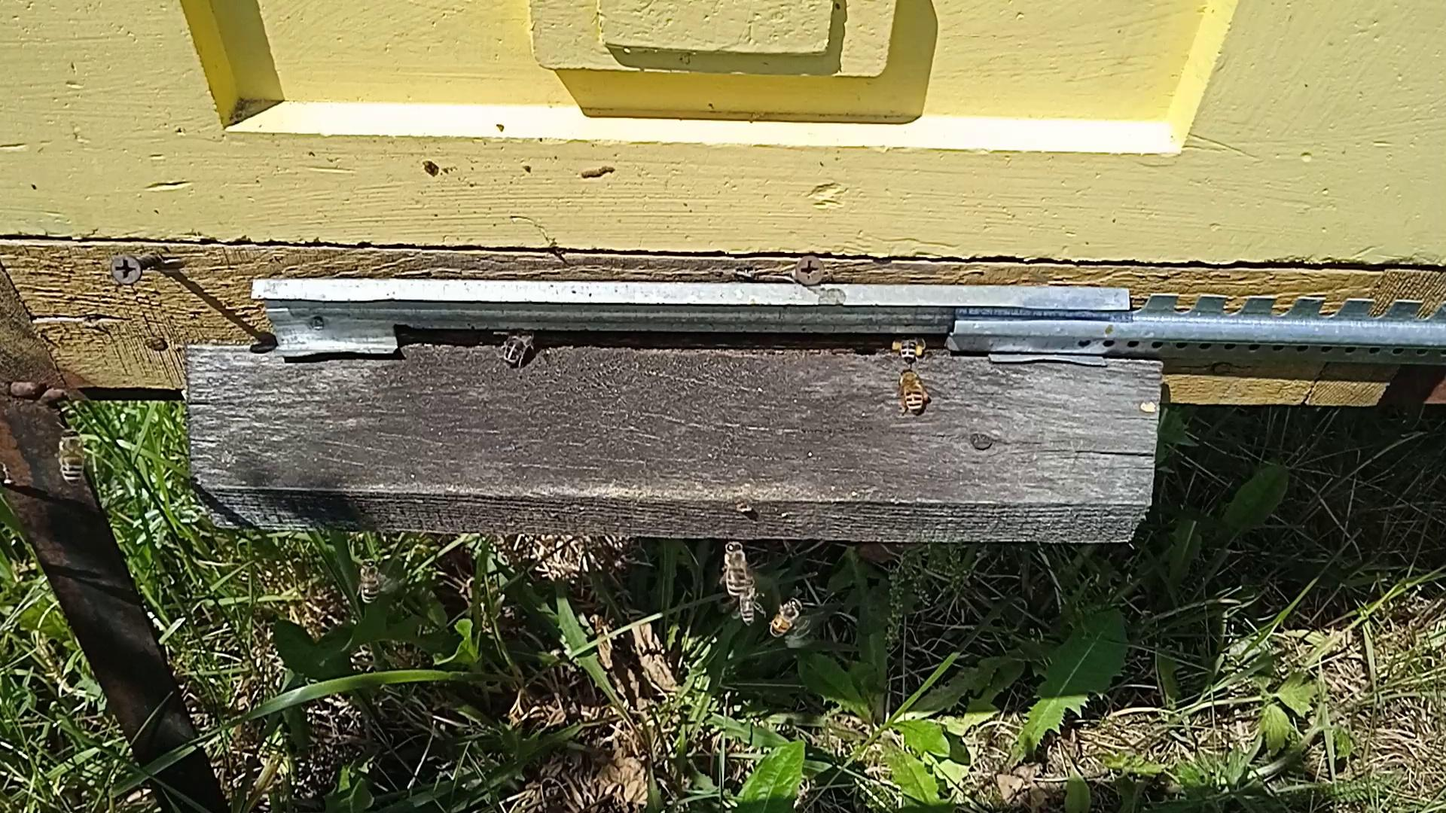worker-bee: (721, 538, 752, 599), (56, 428, 87, 486), (896, 367, 929, 416), (498, 328, 537, 367), (769, 596, 804, 638), (356, 560, 383, 605), (890, 333, 929, 364), (737, 587, 757, 626)
